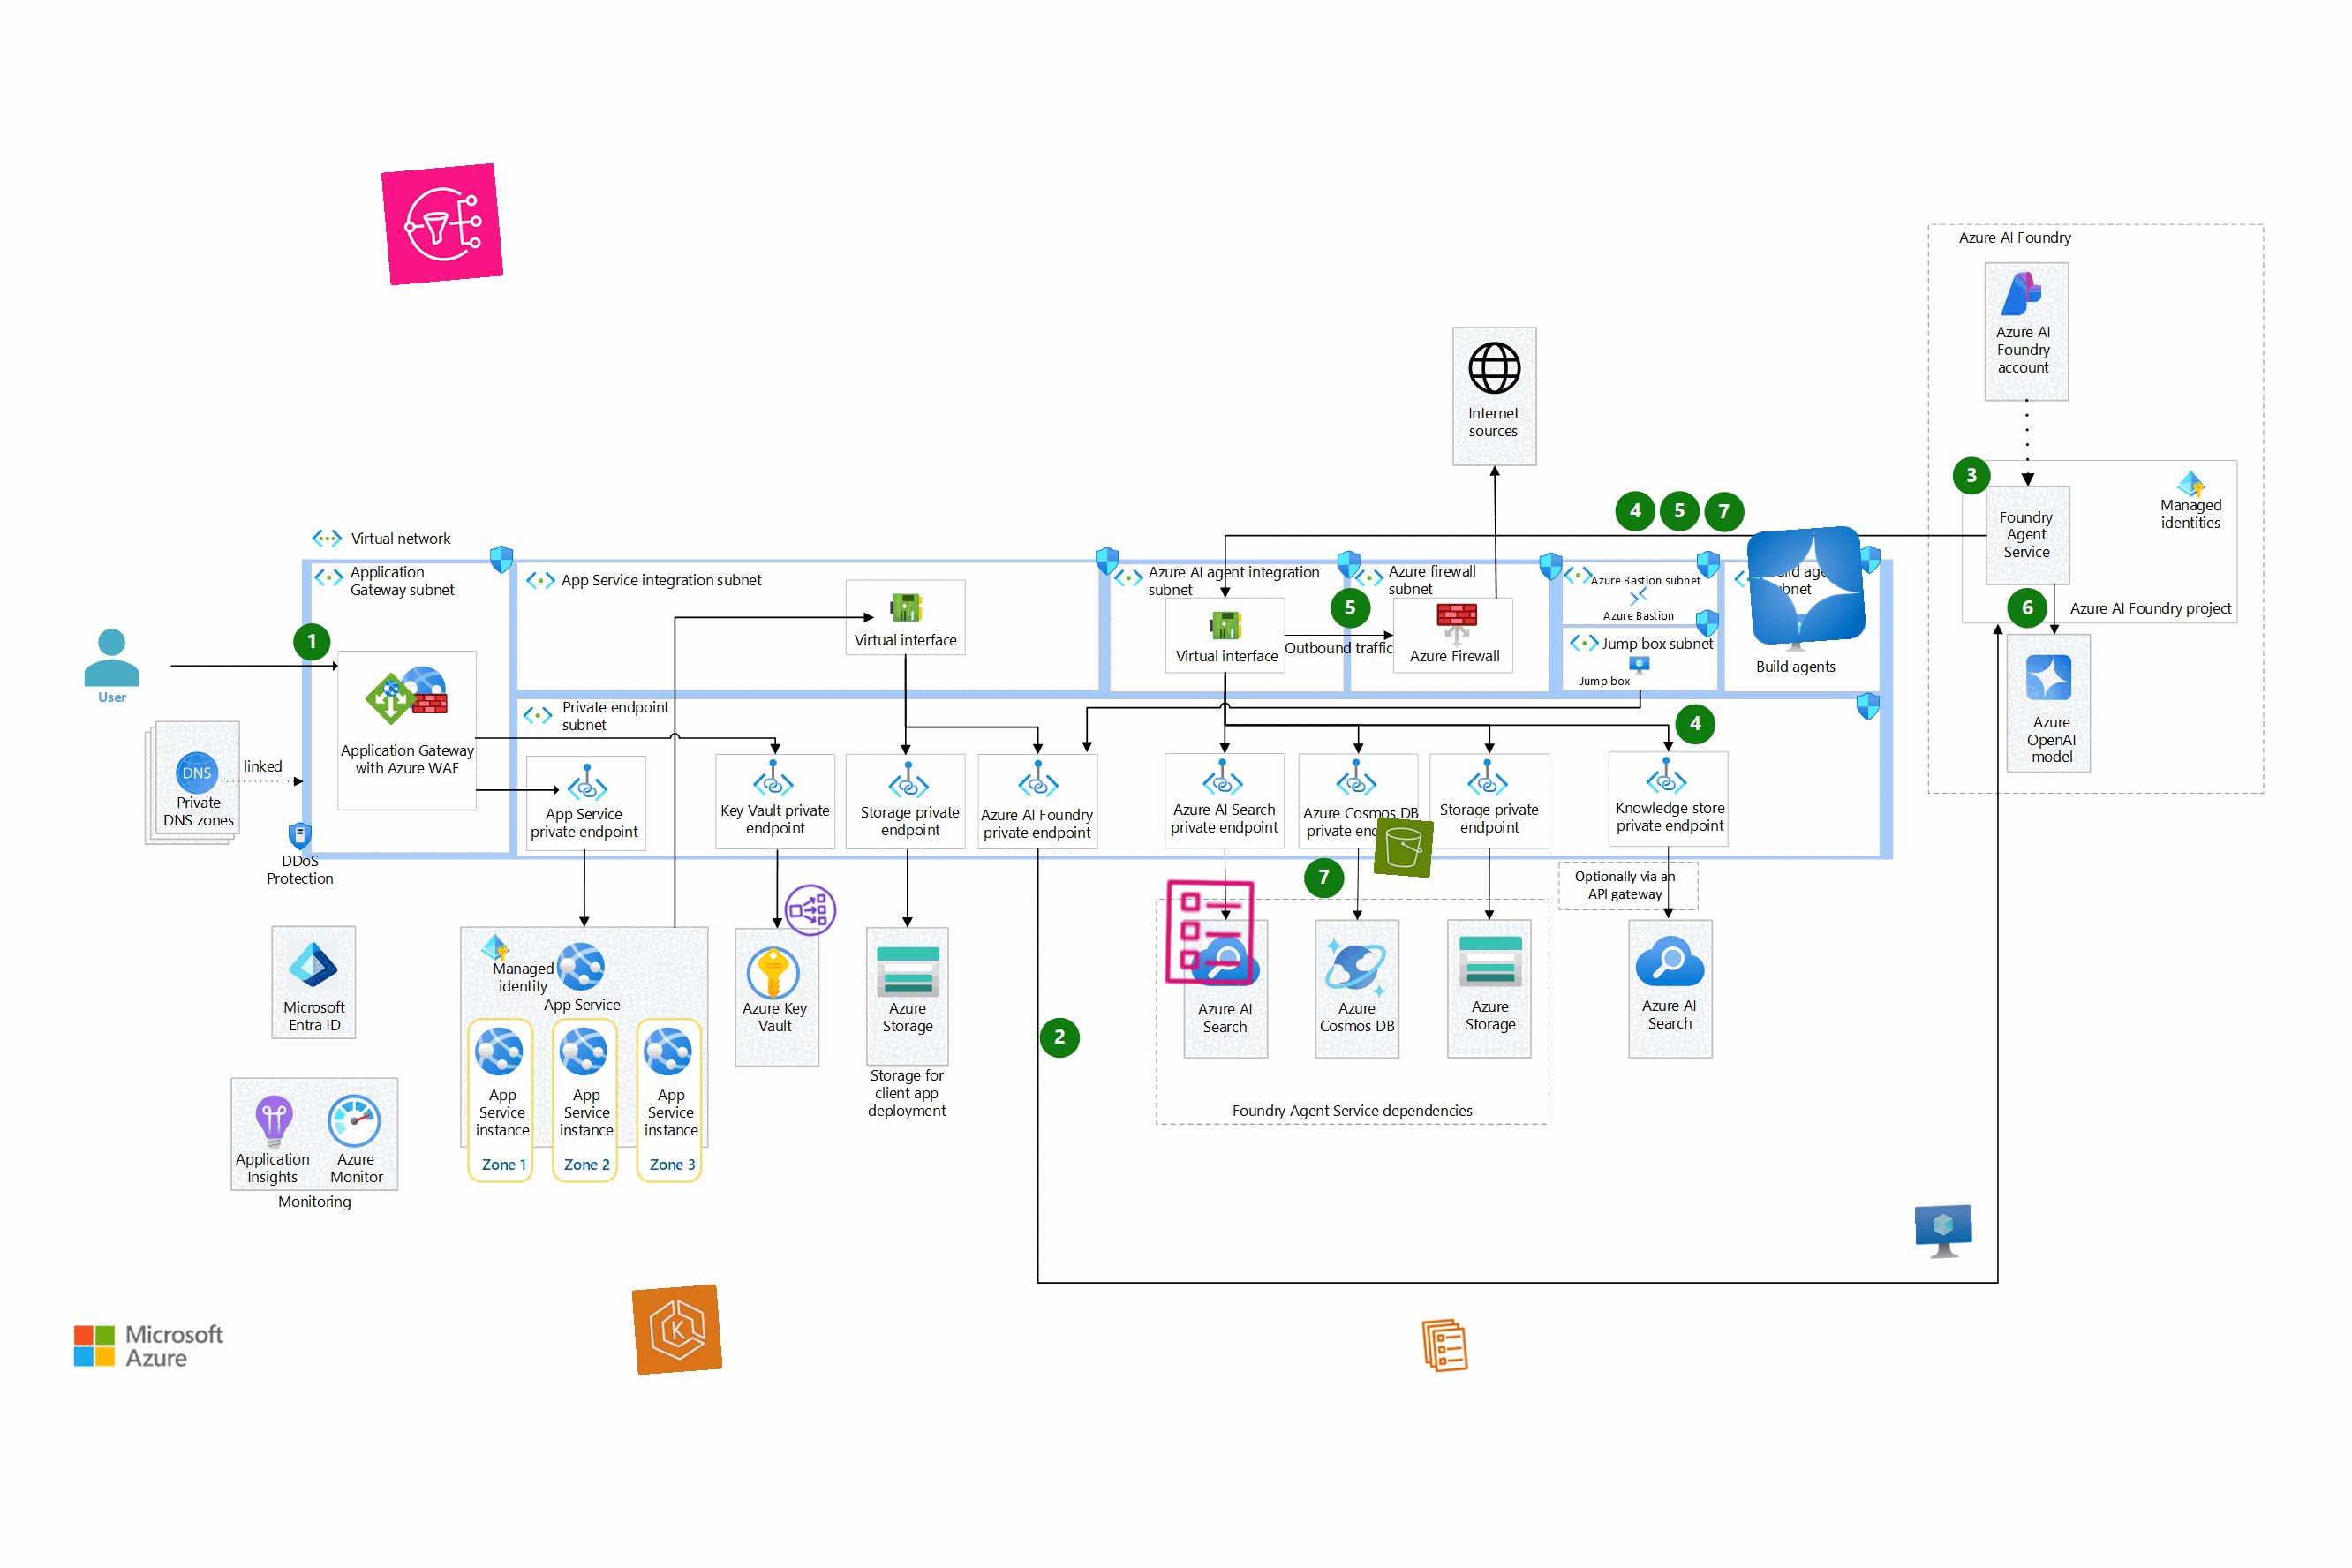aws_amazon_elastic_kubernetes_service: (632, 1284, 723, 1375)
aws_amazon_simple_notification_service: (380, 163, 504, 285)
aws_amazon_simple_storage_service: (1374, 817, 1435, 878)
aws_cloudformation_template: (1150, 873, 1267, 990)
aws_elastic_container_service_service: (1414, 1314, 1477, 1377)
aws_elastic_load_balancing_network_load_balancer: (780, 880, 840, 940)
azure_openai: (1745, 525, 1867, 646)
azure_virtual_machine: (1914, 1204, 1974, 1263)
